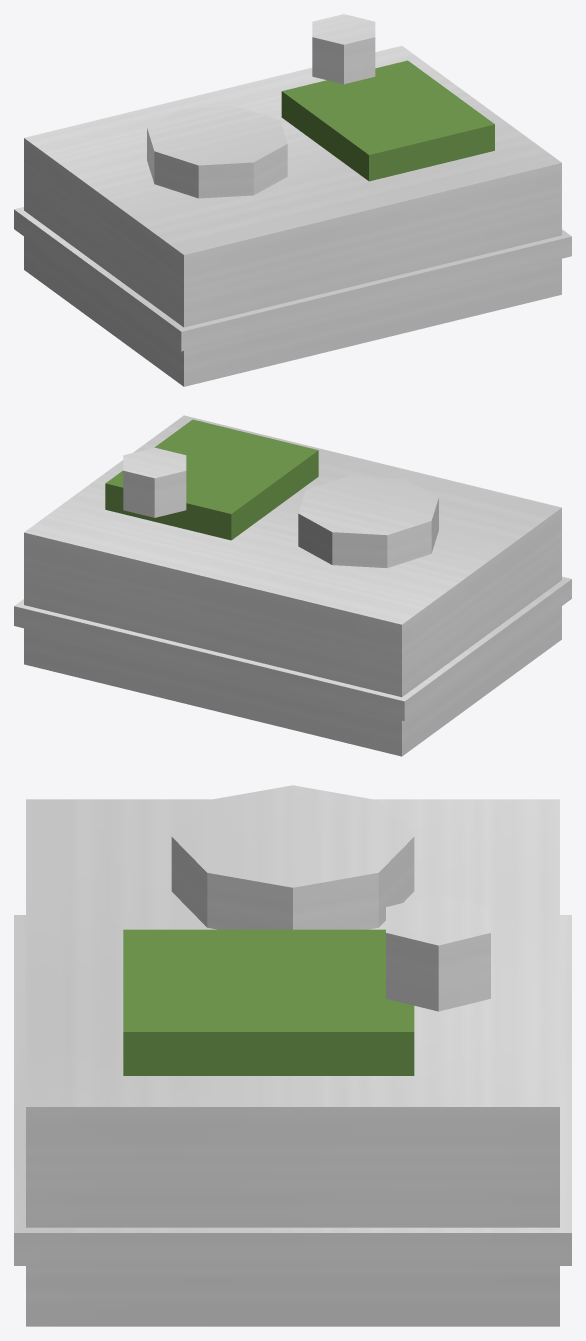
Rendered from item_component.obj.
The picture shows the model from 3 angles, top to bottom: view 1: azimuth 30°, elevation 25°; view 2: azimuth 150°, elevation 25°; view 3: azimuth 270°, elevation 25°; orthographic projection. The views are drawn at different scales.
Visible parts, largest first — view 1: item_component; view 2: item_component; view 3: item_component.
Boxes of the visible parts, x1,y1,x2,y2 form: item_component: (14,14,571,386); item_component: (14,415,571,756); item_component: (14,785,571,1326).
Size of the model in its own units: 0.62 by 0.3 by 0.46.
